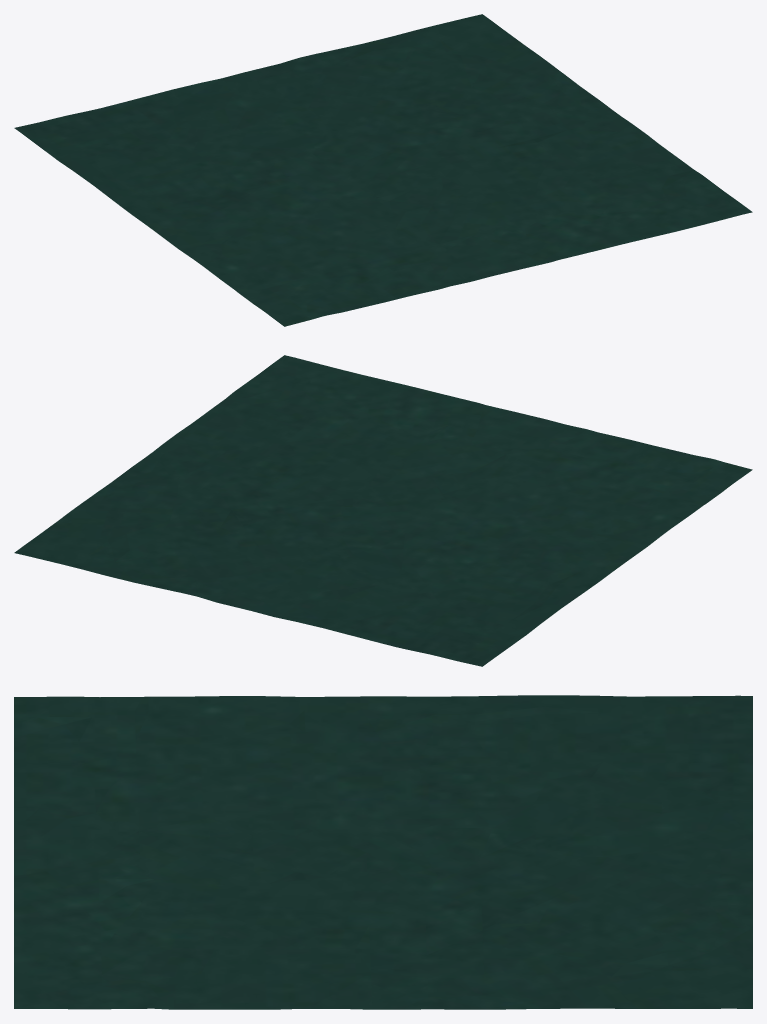
3 renders of one model, top to bottom at view 1: azimuth 30°, elevation 25°; view 2: azimuth 150°, elevation 25°; view 3: azimuth 270°, elevation 25°, orthographic. The views are drawn at different scales.
Bounding box in the file's own units: 52.22 × 0.2496 × 52.22.
3 materials, 3 textured.
